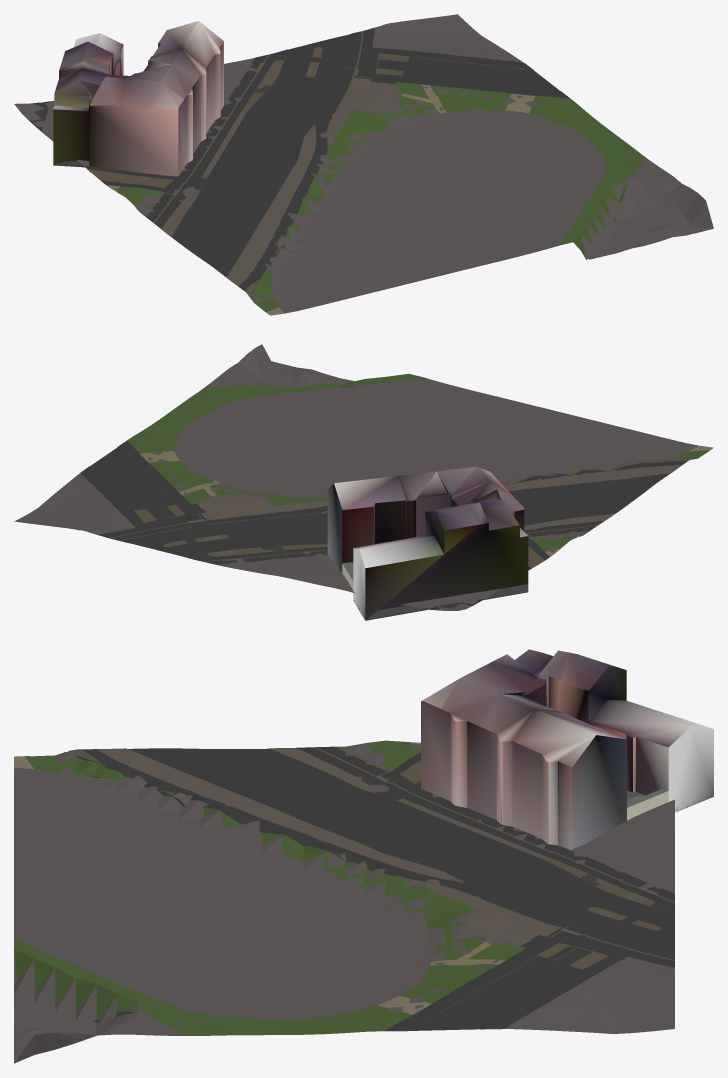
3 views of the same model, one above another, from view 1: azimuth 30°, elevation 25°; view 2: azimuth 150°, elevation 25°; view 3: azimuth 270°, elevation 25° (orthographic). The views are drawn at different scales.
Visible parts, largest first — view 1: c_p02_m12; view 2: c_p02_m12; view 3: c_p02_m12.
Boxes of the visible parts, x1,y1,x2,y2 form: c_p02_m12: [14, 14, 713, 315]; c_p02_m12: [14, 344, 713, 620]; c_p02_m12: [14, 649, 713, 1063].
Bounding box in the file's own units: 133 × 31.96 × 136.
